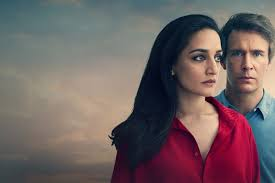Bad: (110, 13, 274, 182)
